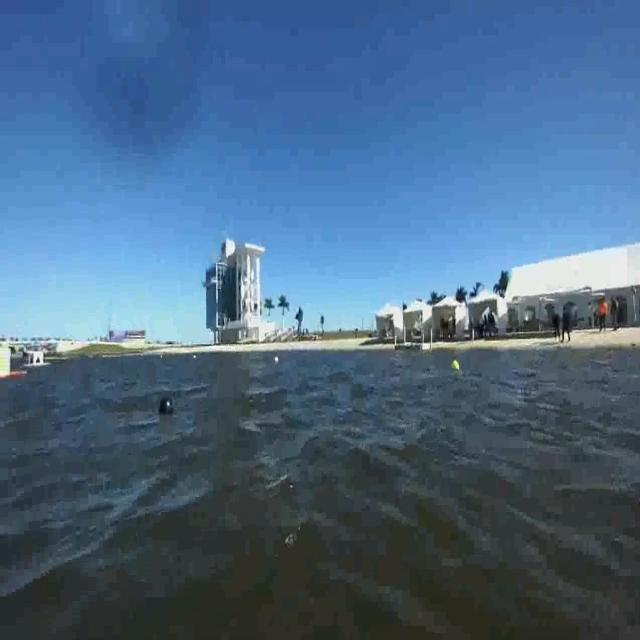black-buoy: (159, 392, 173, 416)
yellow-buoy: (450, 358, 460, 372)
